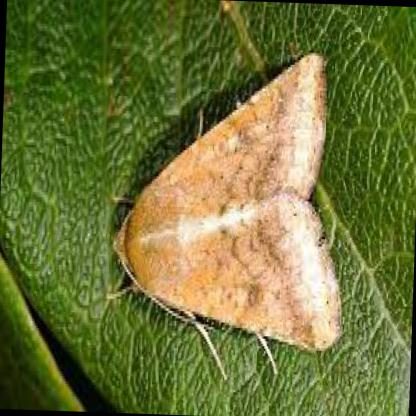helicoverpa: (111, 56, 344, 353)
